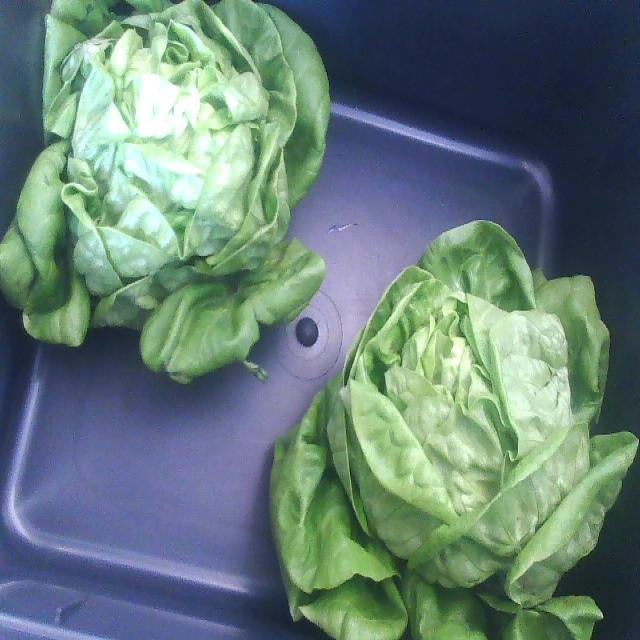Lettuce-plant: (270, 221, 637, 639), (0, 0, 329, 381)
